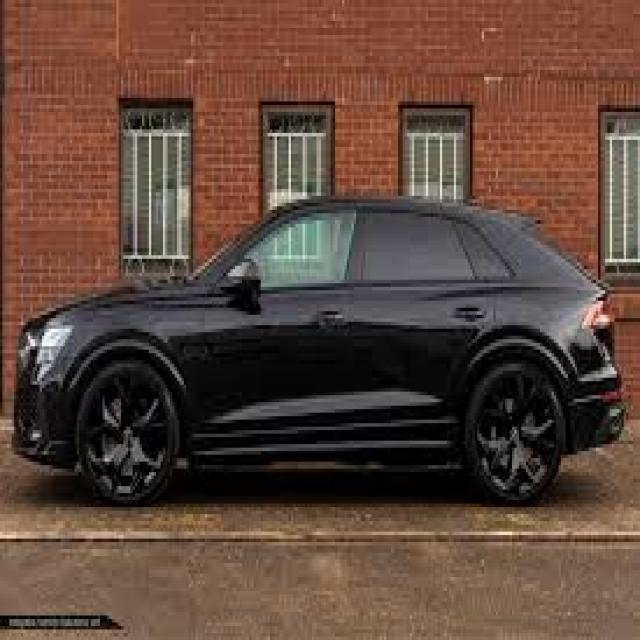SUV: (15, 201, 621, 505)
